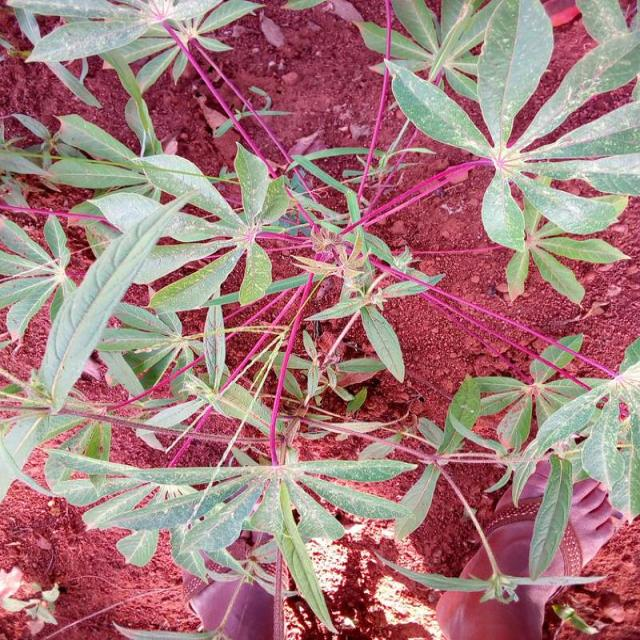cassava leaf: (0, 1, 638, 637), (384, 0, 638, 255)
